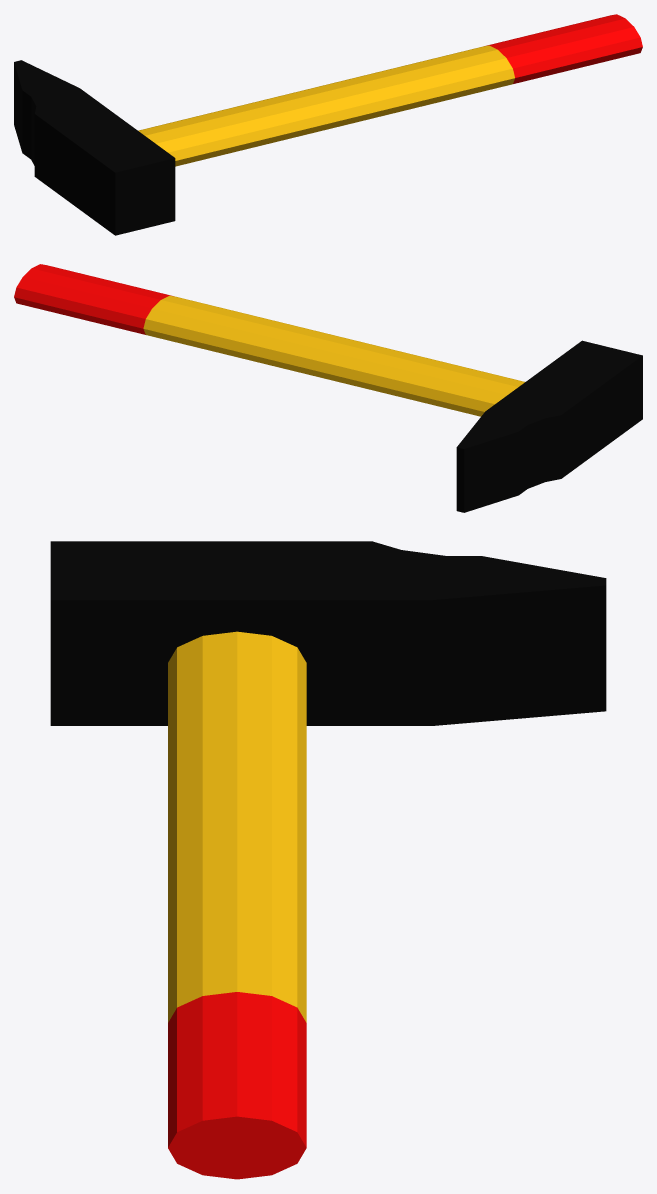
The model's file is marteau.fbx.
3 renders of one model, top to bottom at view 1: azimuth 30°, elevation 25°; view 2: azimuth 150°, elevation 25°; view 3: azimuth 270°, elevation 25°, orthographic. The views are drawn at different scales.
Parts seen in each view (by area): view 1: Cylinder.001, Cube.002; view 2: Cylinder.001, Cube.002; view 3: Cube.002, Cylinder.001.
Part boxes in pixels (left/top/right/bottom): Cylinder.001: left=138, top=14, right=642, bottom=166; Cube.002: left=14, top=60, right=175, bottom=235; Cylinder.001: left=14, top=264, right=524, bottom=416; Cube.002: left=456, top=340, right=642, bottom=512; Cube.002: left=50, top=541, right=606, bottom=725; Cylinder.001: left=168, top=631, right=306, bottom=1179.
Size of the model in its own units: 1852 by 200 by 800.
